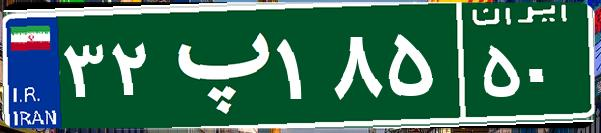0: (525, 38, 570, 115)
1: (273, 28, 330, 110)
2: (110, 28, 158, 105)
3: (57, 26, 110, 107)
5: (385, 28, 445, 110), (475, 38, 525, 113)
8: (330, 28, 385, 110)
پ: (158, 15, 273, 115)
